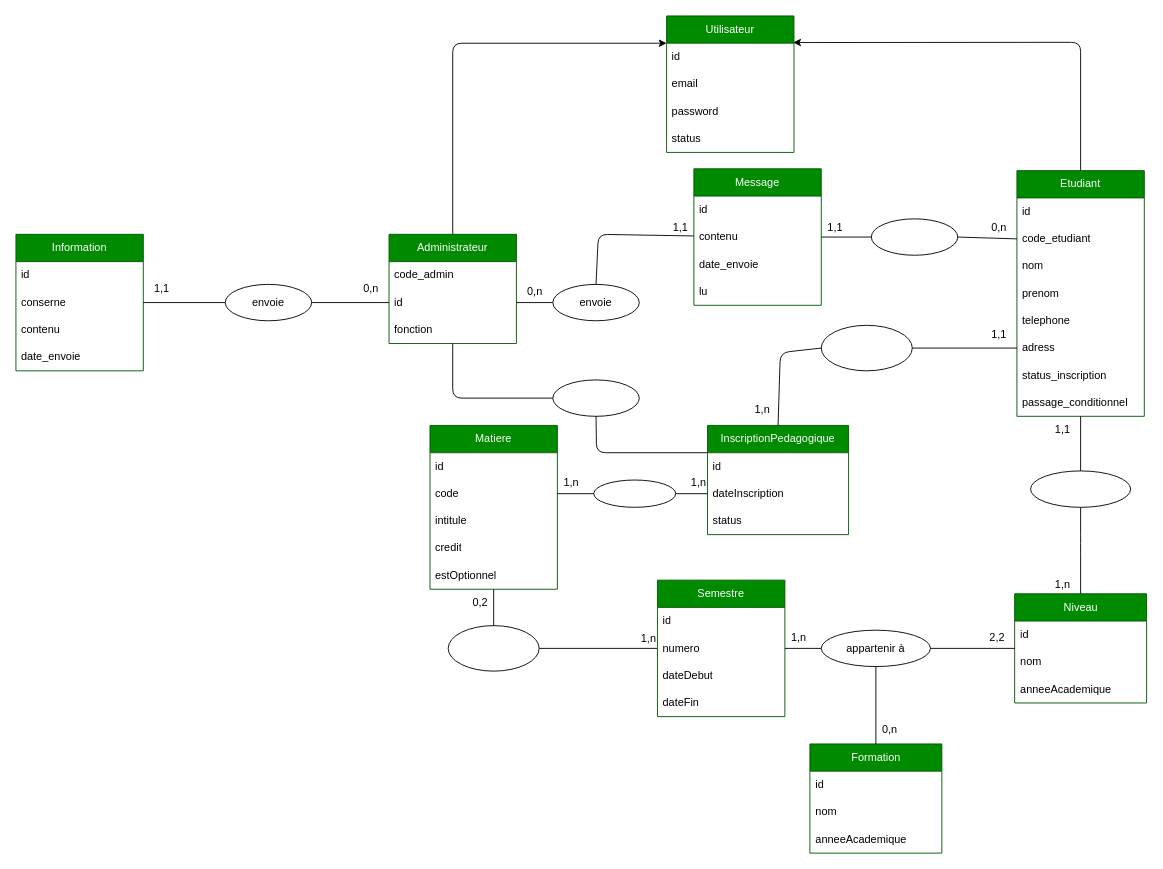
Some shapes in this 1163 by 869 pixel diagram are drawn without their labels. The centre of each missing label's shape, as x and y in pixels:
"conserner" belongs at (x=634, y=493).
"contienir" belongs at (x=493, y=648).
"effectuer" belongs at (x=866, y=347).
"gérer" belongs at (x=595, y=397).
"inscrir à" belongs at (x=1080, y=488).
"reçoit" belongs at (x=914, y=236).
